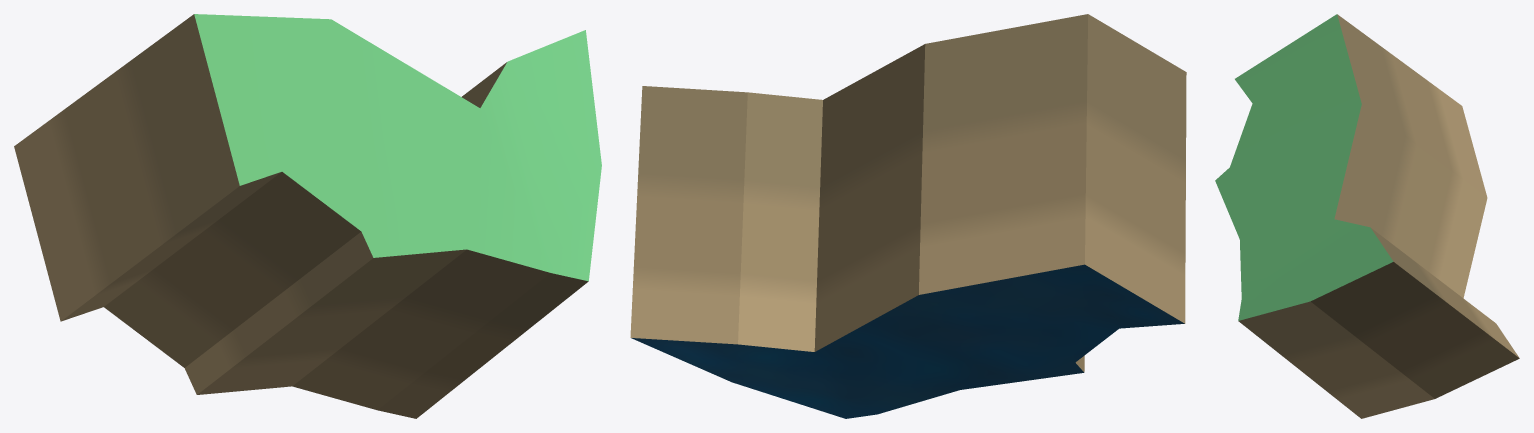
File: 0682_Bulgaria.glb
3 renders of one model, left to right at view 1: azimuth 30°, elevation 25°; view 2: azimuth 150°, elevation 25°; view 3: azimuth 270°, elevation 25°, orthographic. The views are drawn at different scales.
Parts seen in each view (by area): view 1: part_0; view 2: part_0; view 3: part_0.
Part boxes in pixels (x1=…): part_0: x1=14, y1=14, x2=601, y2=418; part_0: x1=630, y1=14, x2=1186, y2=418; part_0: x1=1215, y1=14, x2=1519, y2=418.
Bounding box in the file's own units: 0.4429 × 0.3657 × 0.3108.
1 material, 1 textured.
